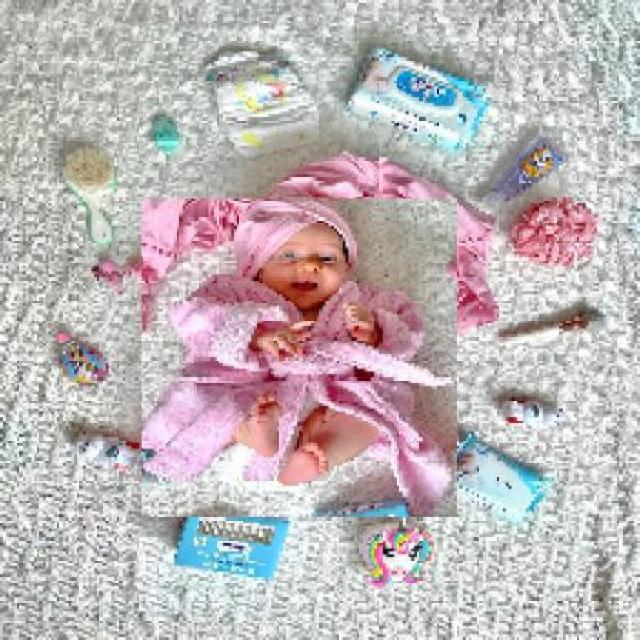child: (140, 198, 457, 518)
